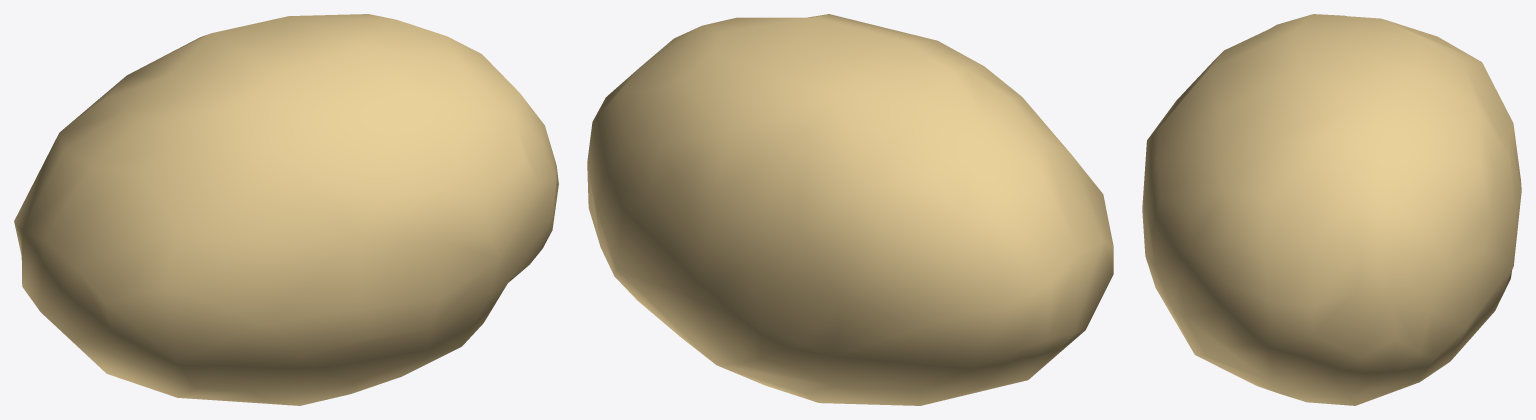
File: potato.fbx
3 renders of one model, left to right at view 1: azimuth 30°, elevation 25°; view 2: azimuth 150°, elevation 25°; view 3: azimuth 270°, elevation 25°, orthographic. The views are drawn at different scales.
Parts seen in each view (by area): view 1: mr.potato; view 2: mr.potato; view 3: mr.potato.
Part boxes in pixels (box(x1,y1,x2,y2)): mr.potato: box(14, 14, 558, 405); mr.potato: box(587, 14, 1113, 405); mr.potato: box(1142, 14, 1521, 405).
Size of the model in its own units: 10.75 by 7.35 by 7.61.
